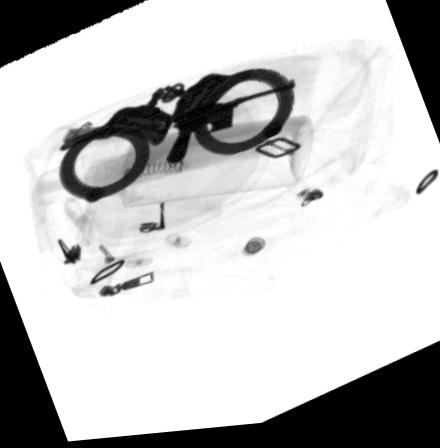Gun: (166, 84, 296, 166)
HandCuffs: (56, 72, 297, 204)
